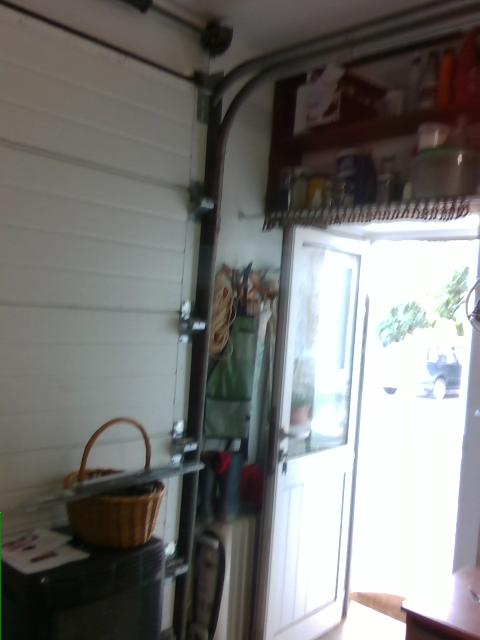door: (253, 224, 373, 639)
